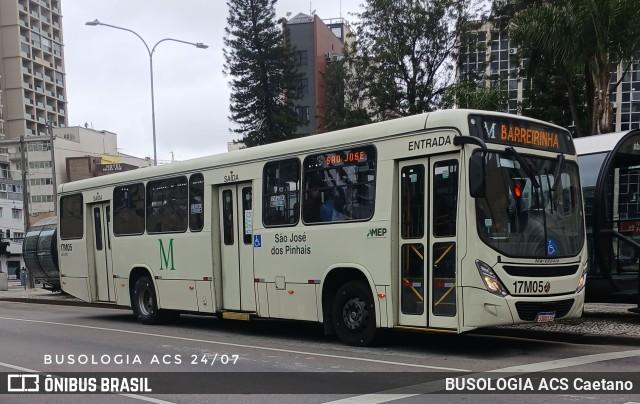BARREIRINHA: (498, 122, 561, 150)
